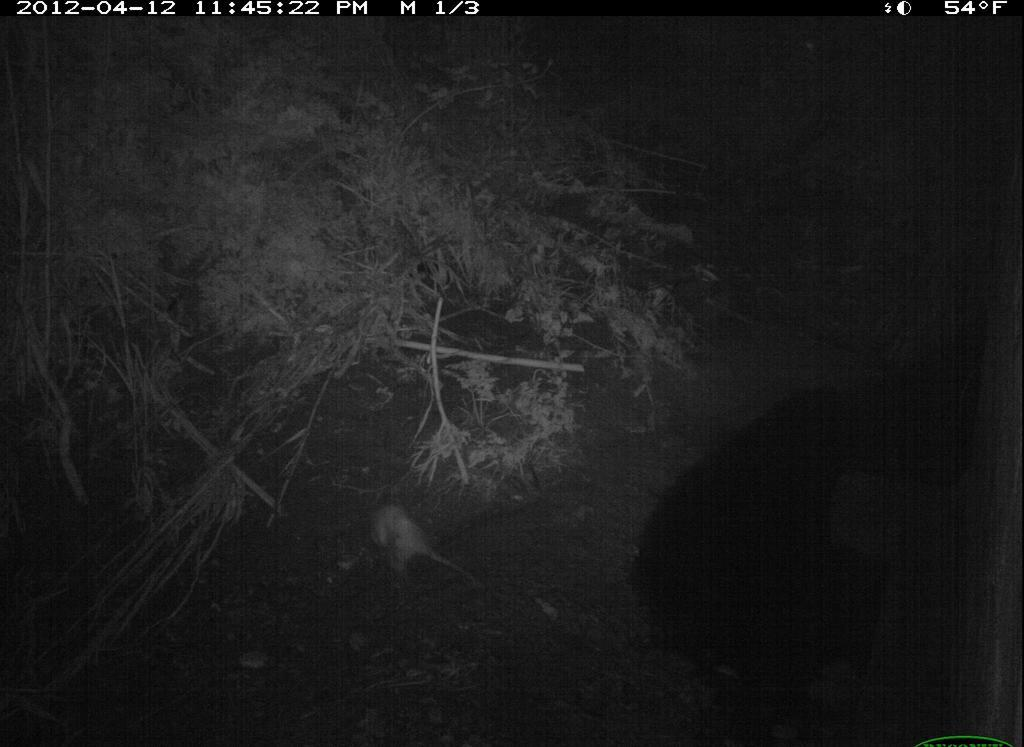opossum: (365, 501, 492, 610)
